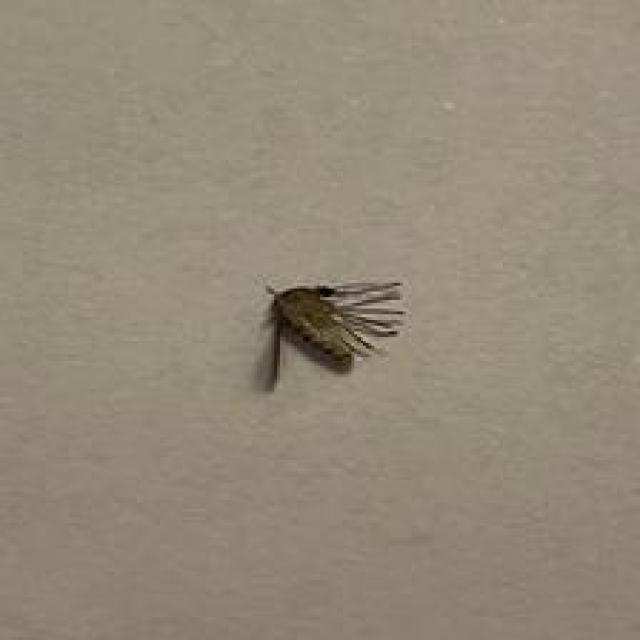Culex: (256, 277, 407, 392)
